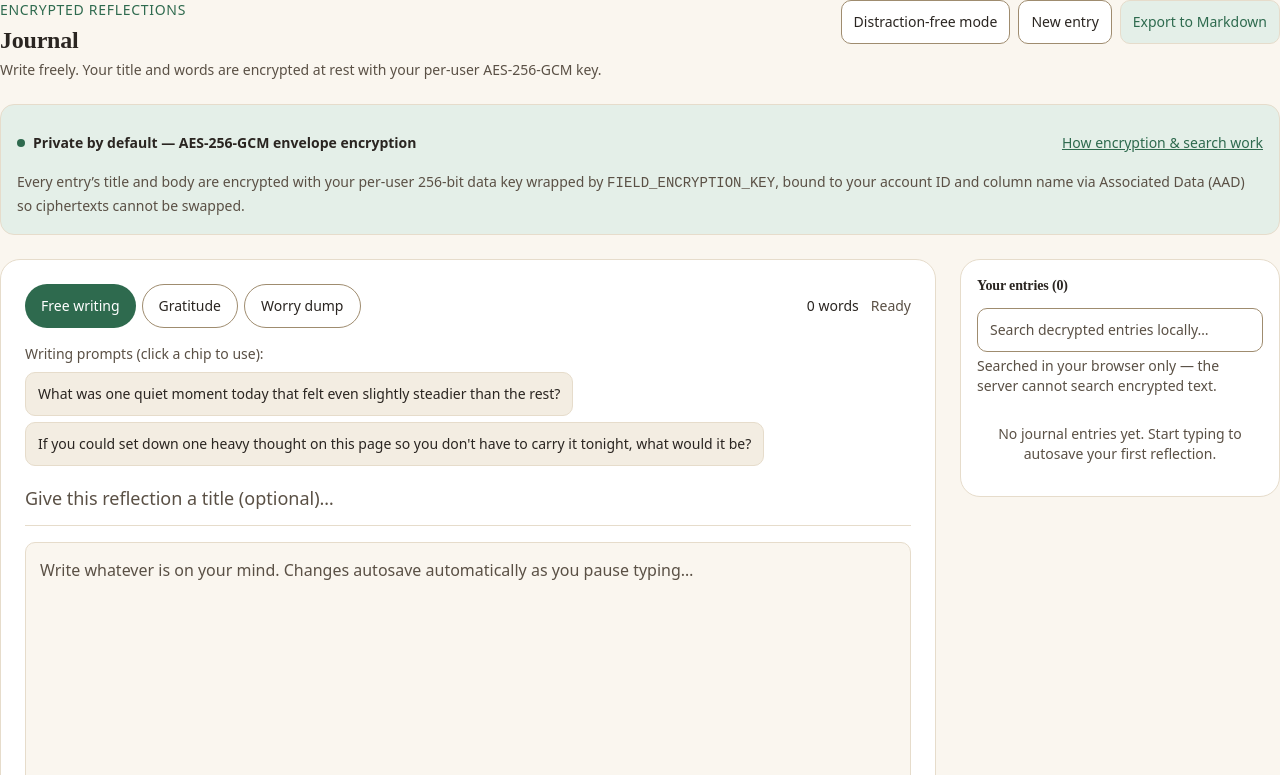
Test case: JournalView & markdown helpers › supports gratitude and worry_dump templates, prompt chips, and emotion opt-out
Expected: the element with test id "journal-prompts-bar" is shown, [25,344,764,466]
Click the button with test id "journal-template-gratitude" at [190, 306], box [142,284,238,328]
(page scrolled)
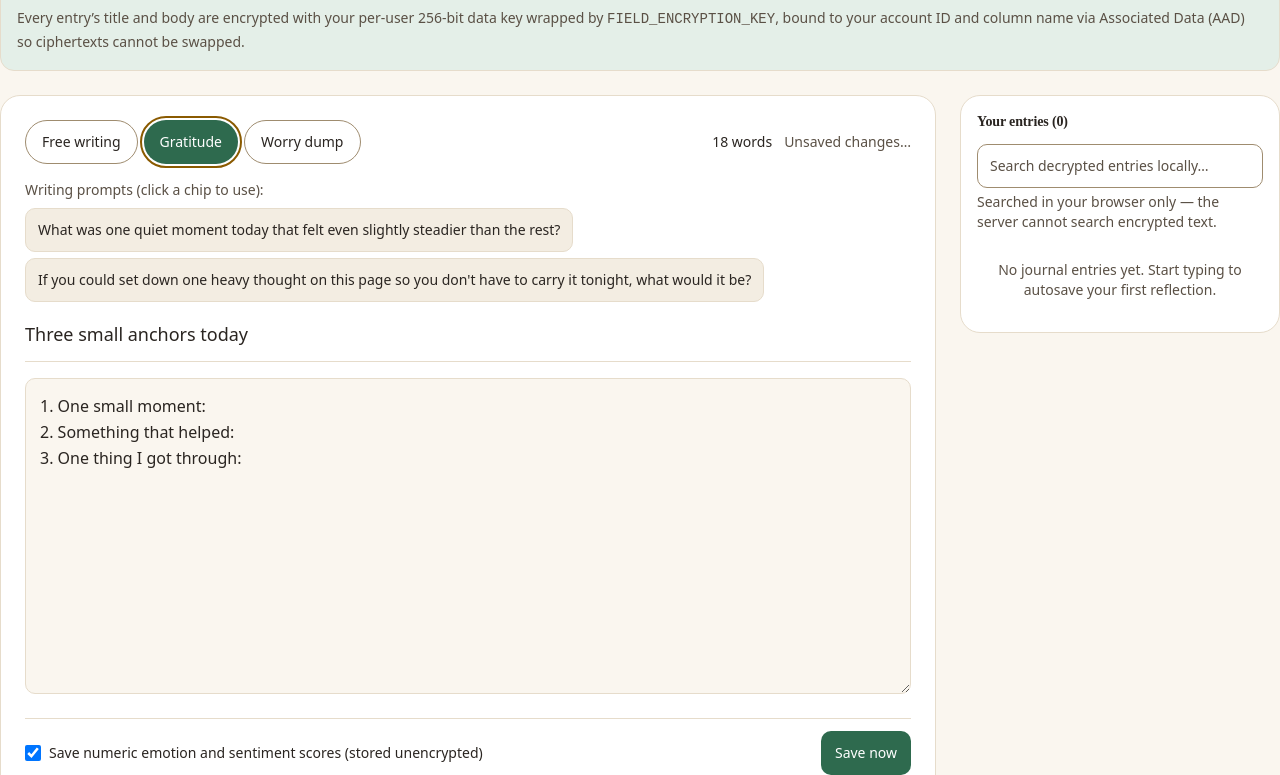
Expected: the field with test id "journal-title-input" holds "Three small anchors today", [25,318,911,362]
Click the checkbox with test id "journal-store-emotions-toggle" at [33, 752], box [25,744,41,760]
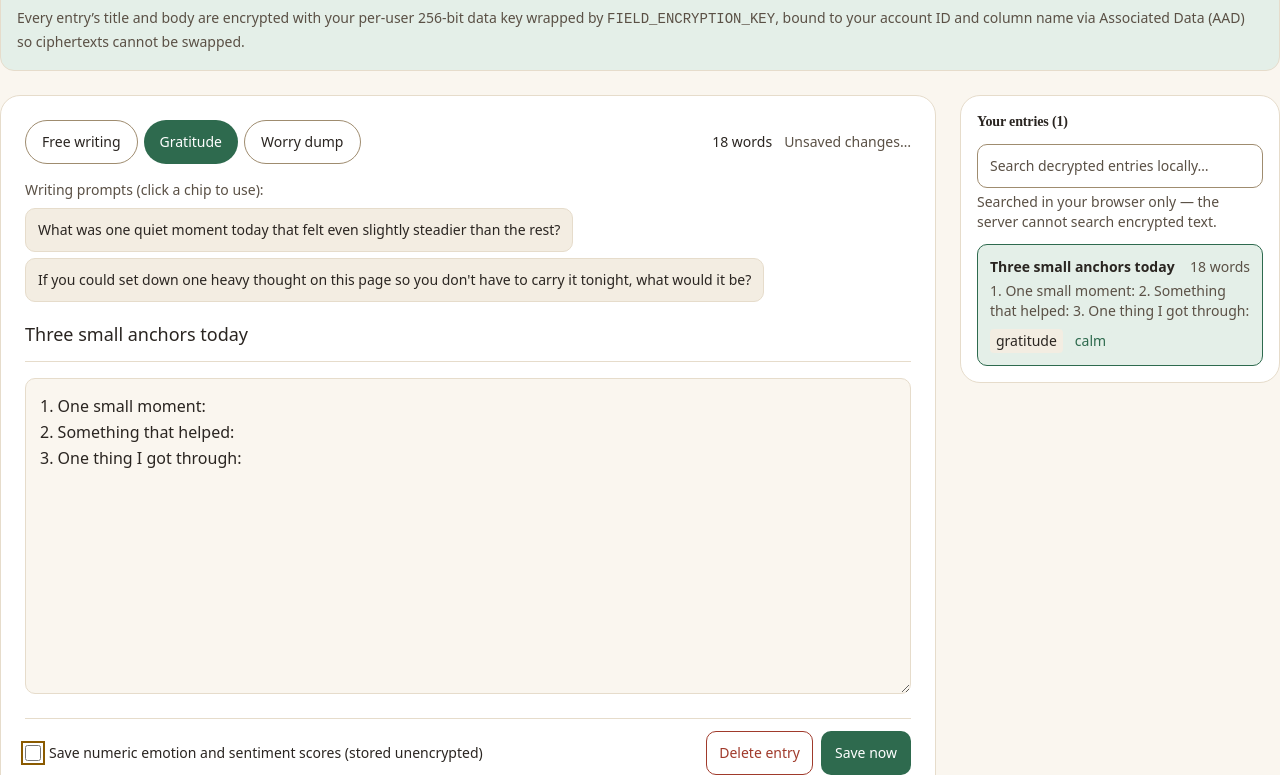
Expected: the checkbox with test id "journal-store-emotions-toggle" is not checked, [25,744,41,760]
Note: Click a prompt chip
Click the button with test id "journal-prompt-chip-prompt-small-anchor" at [299, 230], box [25,208,573,252]
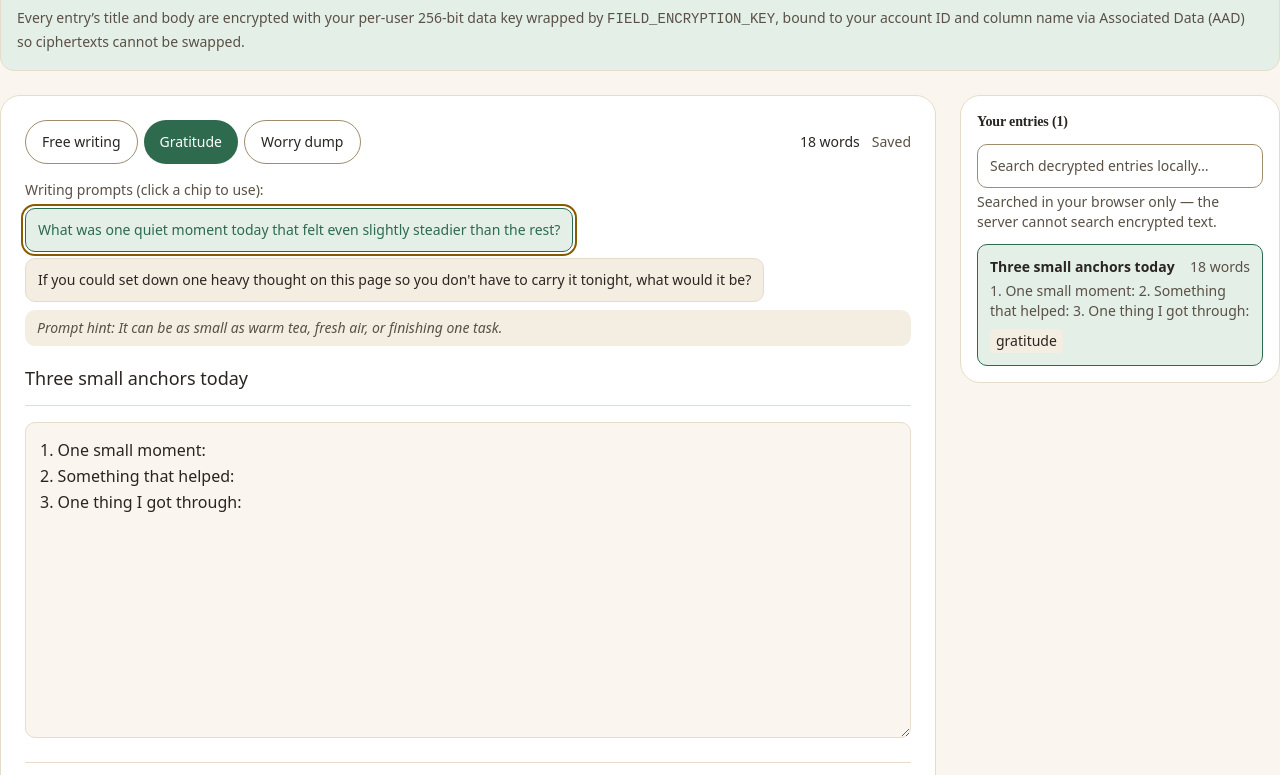
Expected: the text with test id "journal-prompt-hint" shows "It can be as small as warm tea", [37,318,502,336]
